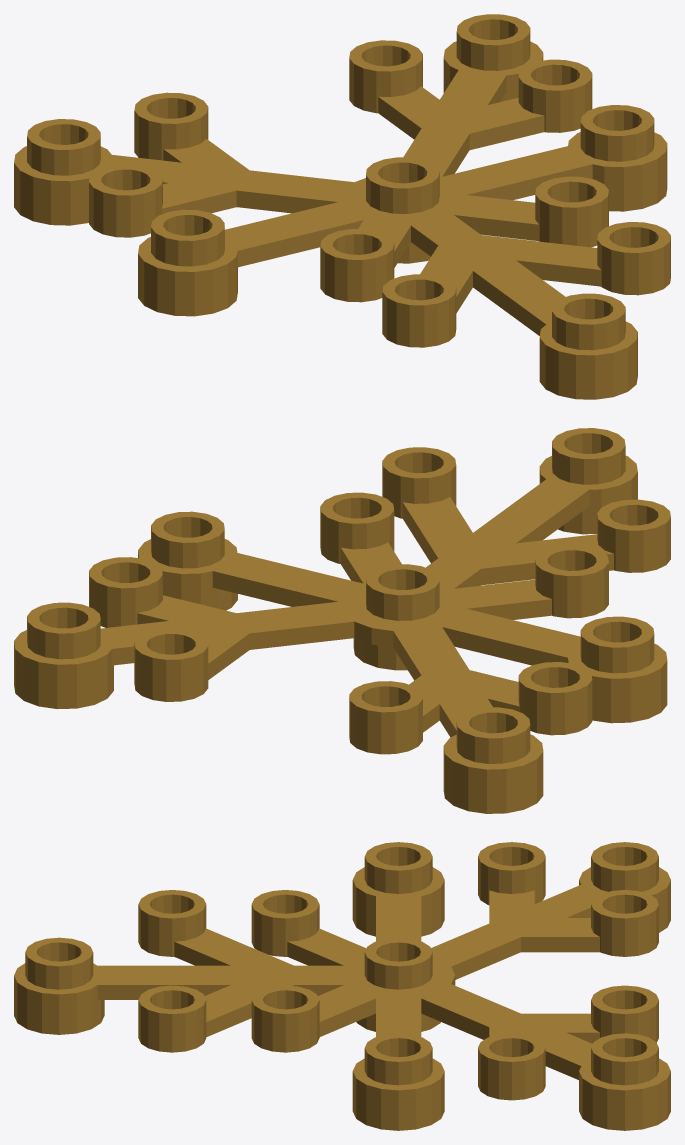
The model's file is VinePlants.dae.
3 views of the same model, one above another, from view 1: azimuth 30°, elevation 25°; view 2: azimuth 150°, elevation 25°; view 3: azimuth 270°, elevation 25° (orthographic). The views are drawn at different scales.
Parts seen in each view (by area): view 1: Part.0, Part.1; view 2: Part.0, Part.1; view 3: Part.0, Part.1.
Part boxes in pixels (left/top/right/bottom): Part.0: left=14, top=14, right=670, bottom=399; Part.1: left=341, top=178, right=596, bottom=257; Part.0: left=14, top=428, right=670, bottom=813; Part.1: left=340, top=504, right=551, bottom=647; Part.0: left=14, top=842, right=670, bottom=1130; Part.1: left=207, top=929, right=455, bottom=1036.
Bounding box in the file's own units: 38.5 × 4.98 × 46.45.
